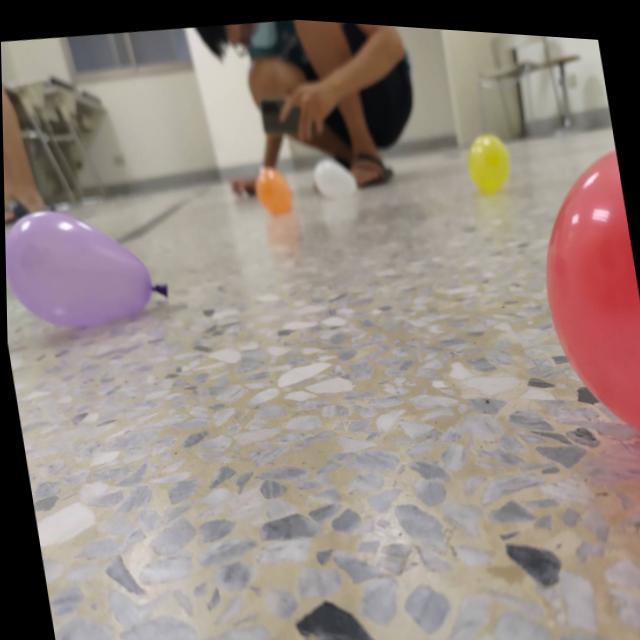other: (3, 190, 174, 341), (463, 123, 515, 189), (252, 157, 295, 215), (310, 146, 358, 196)
red: (521, 123, 640, 457)
